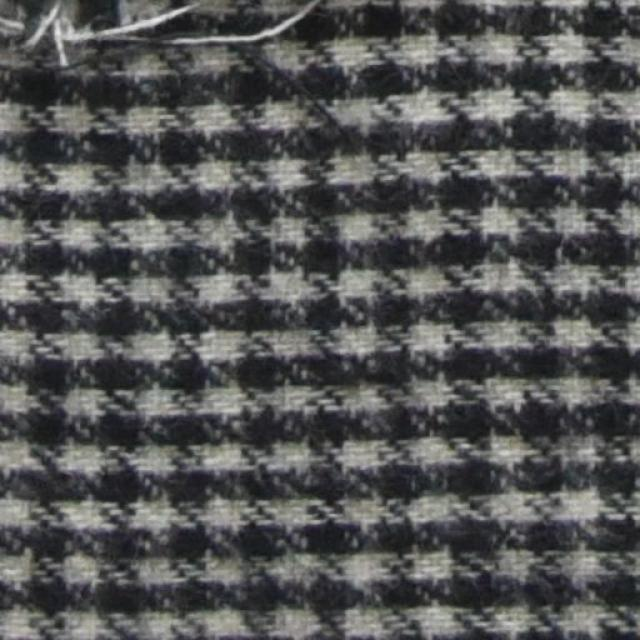Snag: (0, 0, 349, 93)
